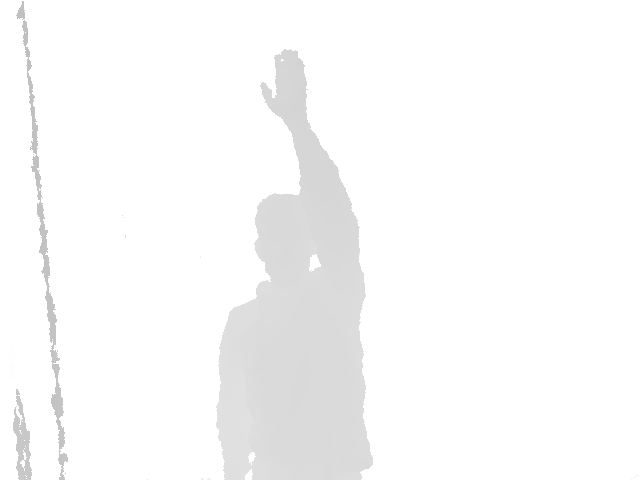hand: (259, 48, 308, 123)
head: (254, 192, 320, 271)
person: (215, 48, 374, 480)
